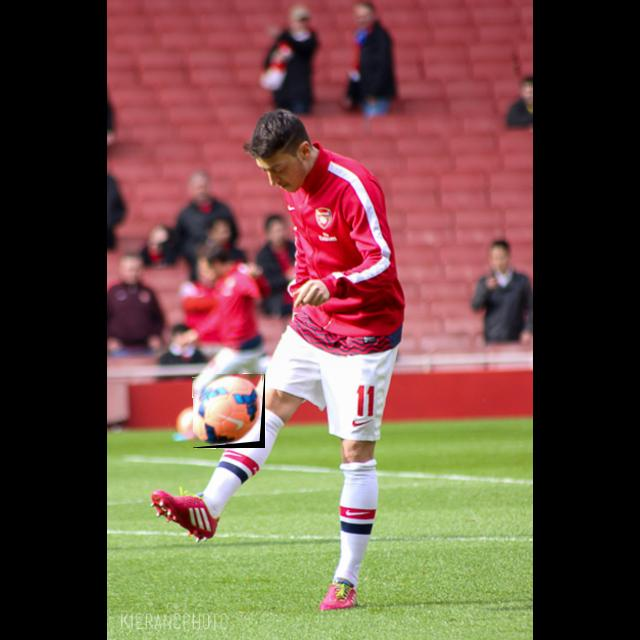Football: (193, 374, 265, 448)
